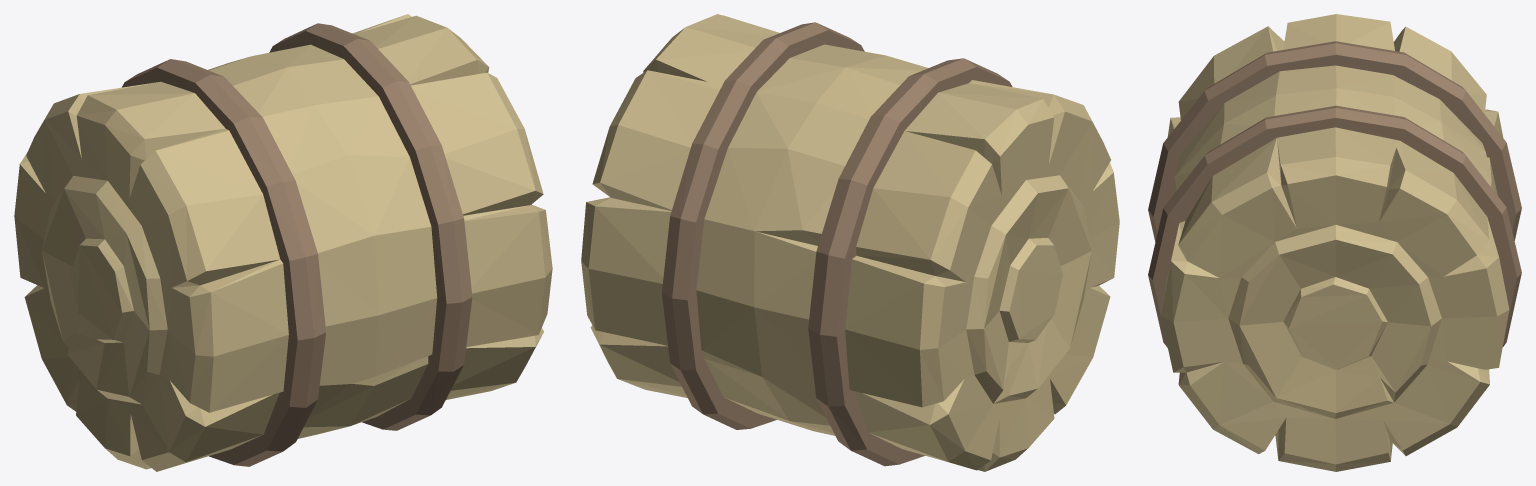
File: HayBale.fbx
3 renders of one model, left to right at view 1: azimuth 30°, elevation 25°; view 2: azimuth 150°, elevation 25°; view 3: azimuth 270°, elevation 25°, orthographic. The views are drawn at different scales.
Parts seen in each view (by area): view 1: HayBale_LOD0; view 2: HayBale_LOD0; view 3: HayBale_LOD0.
Boxes of the visible parts, bbox=[...] form: HayBale_LOD0: bbox=[14, 14, 552, 471]; HayBale_LOD0: bbox=[581, 14, 1119, 471]; HayBale_LOD0: bbox=[1148, 14, 1521, 471].
Size of what is drawn, in the model's own units: 0.8073 by 0.7822 by 0.7809.
